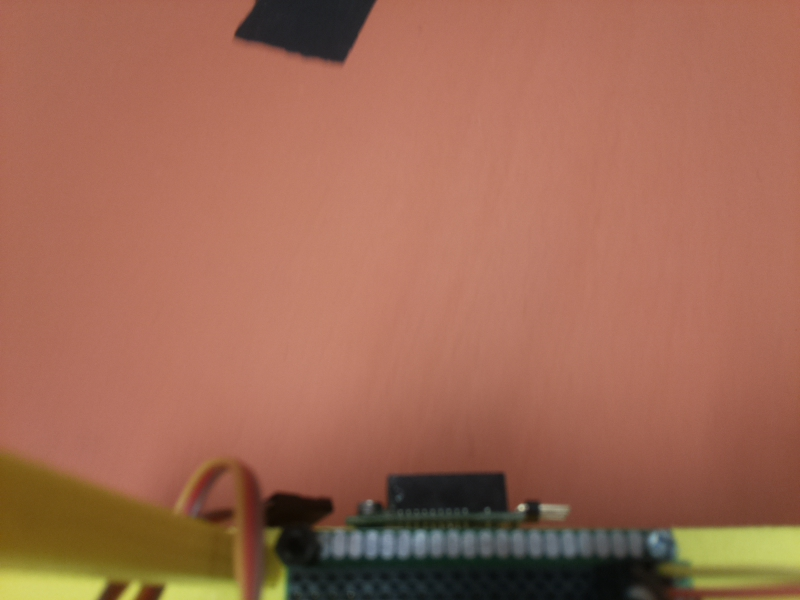start: (221, 2, 373, 66)
